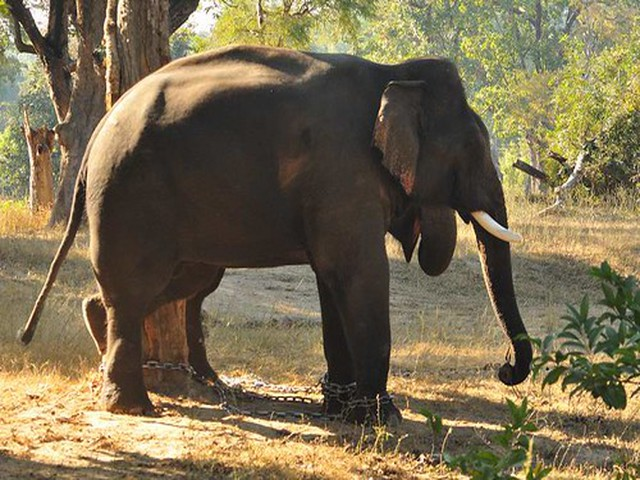Elephant: (18, 42, 533, 424)
